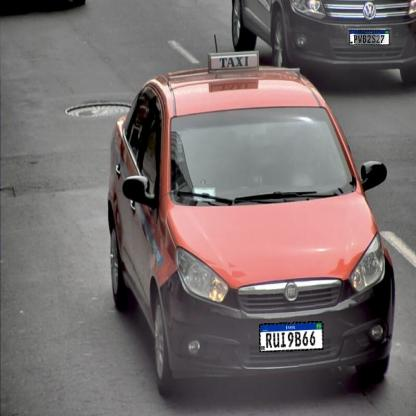PlacaM: (259, 321, 323, 352), (350, 30, 390, 45)
